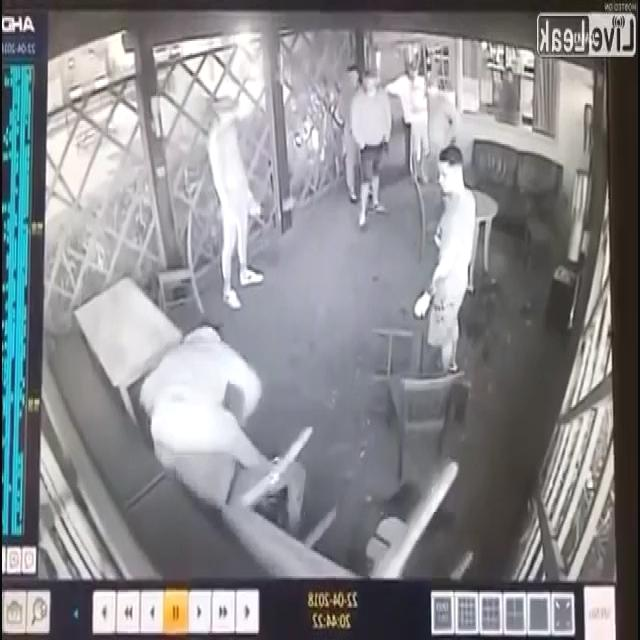fight: (97, 266, 312, 512)
